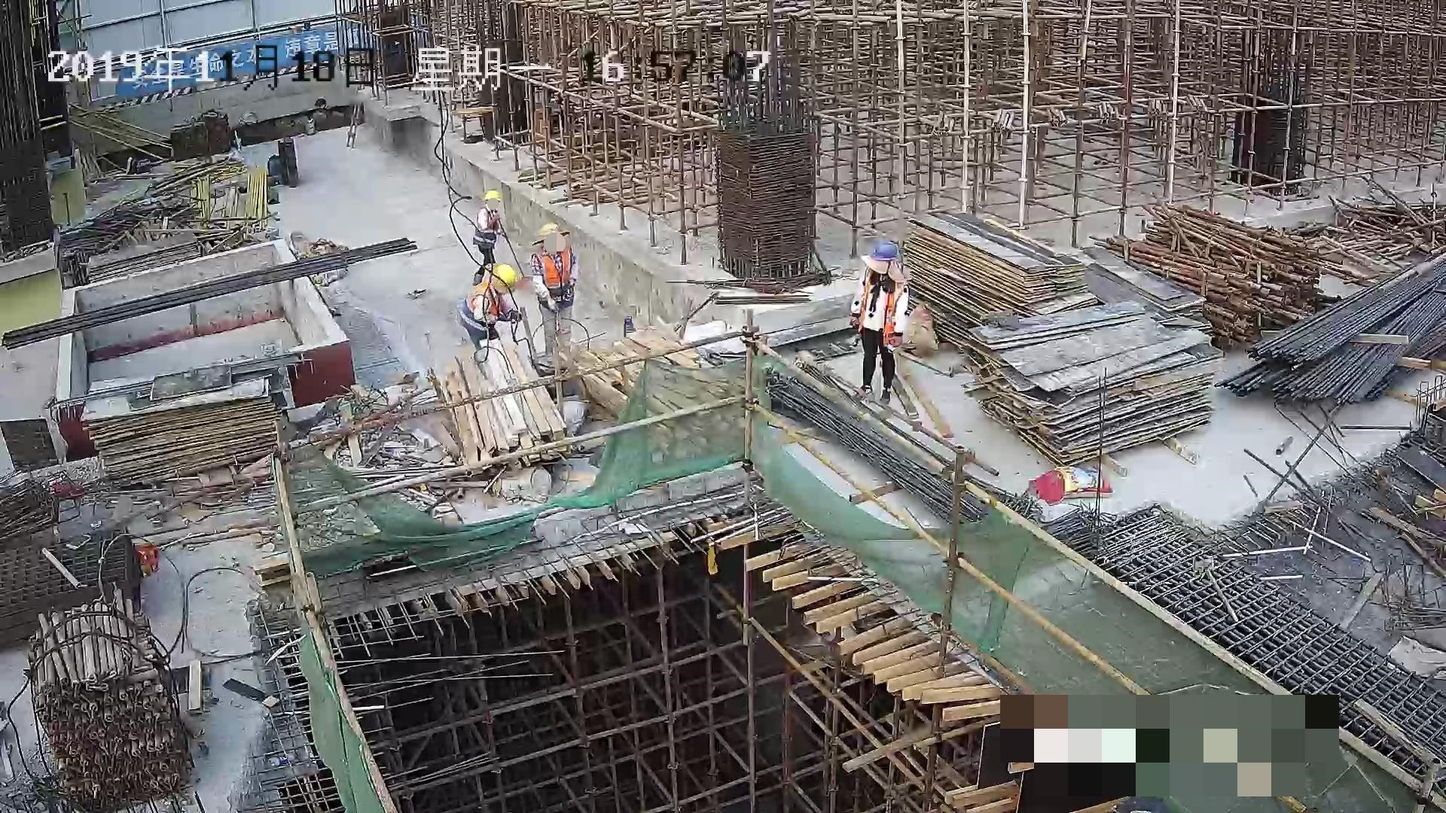hat: (873, 242, 898, 279), (493, 263, 518, 294), (539, 221, 563, 252), (484, 190, 502, 211)
person: (847, 238, 909, 413), (529, 221, 584, 364), (458, 262, 532, 358), (473, 190, 501, 291)
